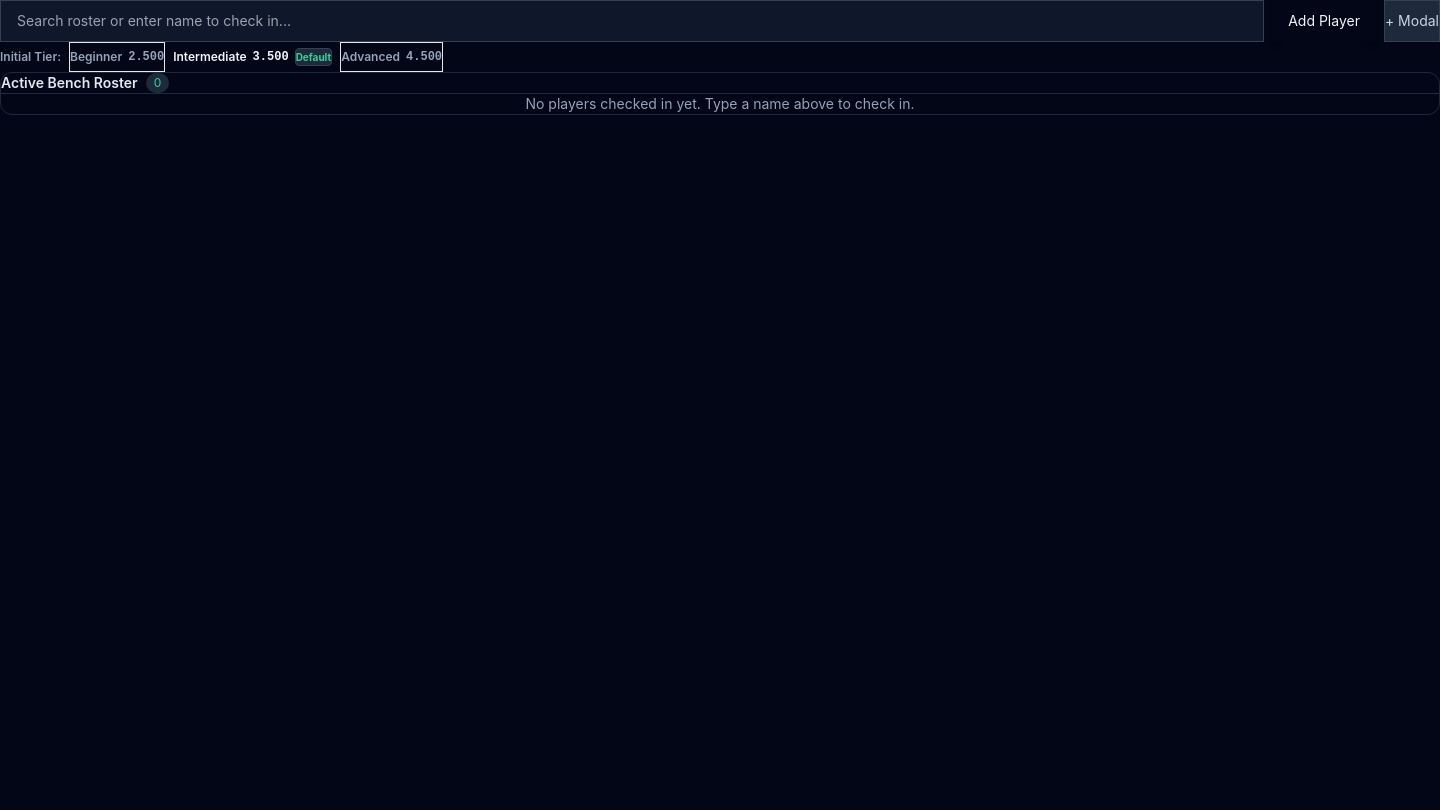
Test: RosterCheckInList › checks in a player with tier anchor via the check-in modal
Click the button with aria-label "Open detailed check-in modal" at (1412, 21), box [1384, 0, 1439, 42]
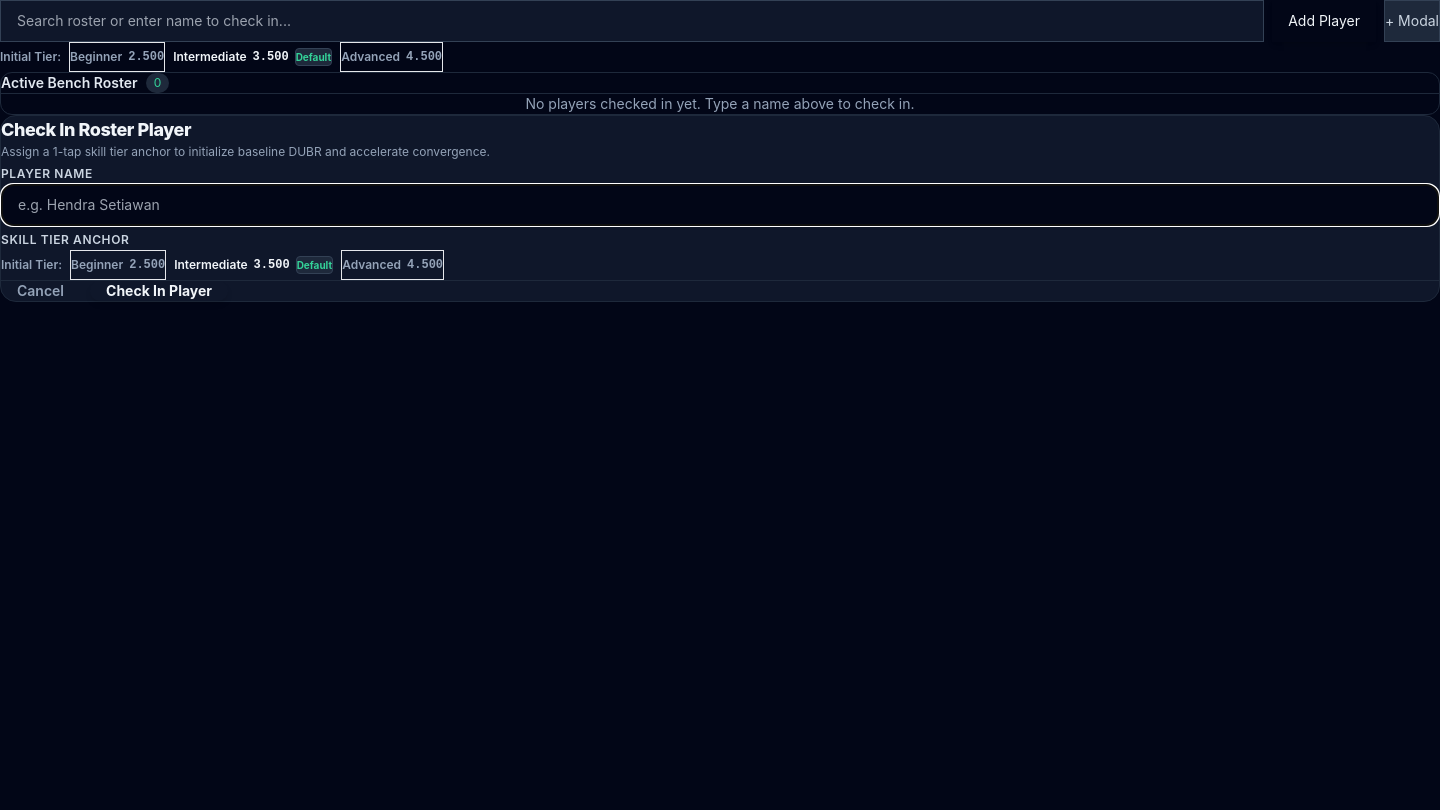
Now the heading "Check In Roster Player" is shown, box [1, 119, 191, 140]
Type "Modal Mike" into the field labelled "Player Name" at (720, 205), box [1, 184, 1439, 226]
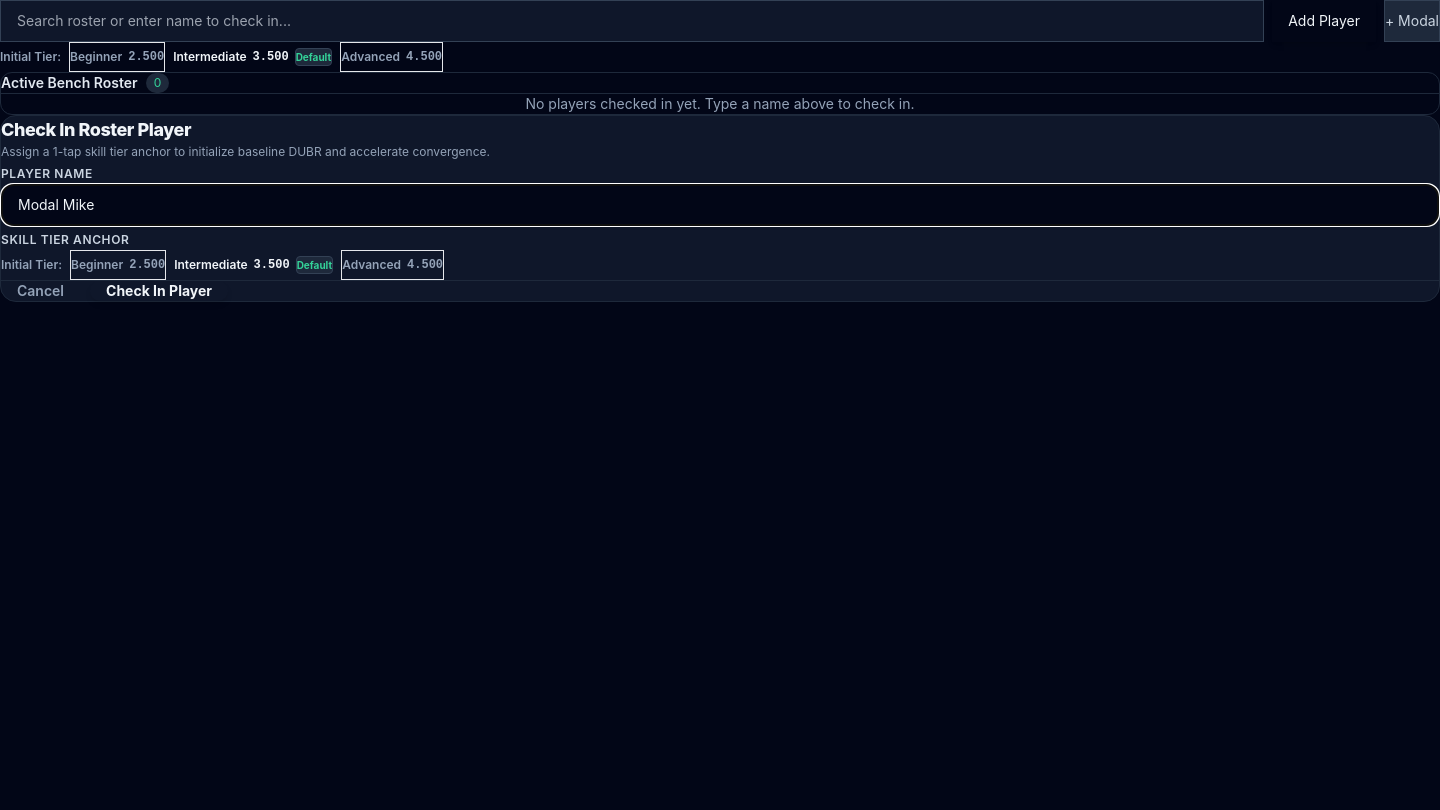
Click the radio button labelled "Advanced 4.500" below "Player Name" at (393, 265), box [341, 250, 444, 280]
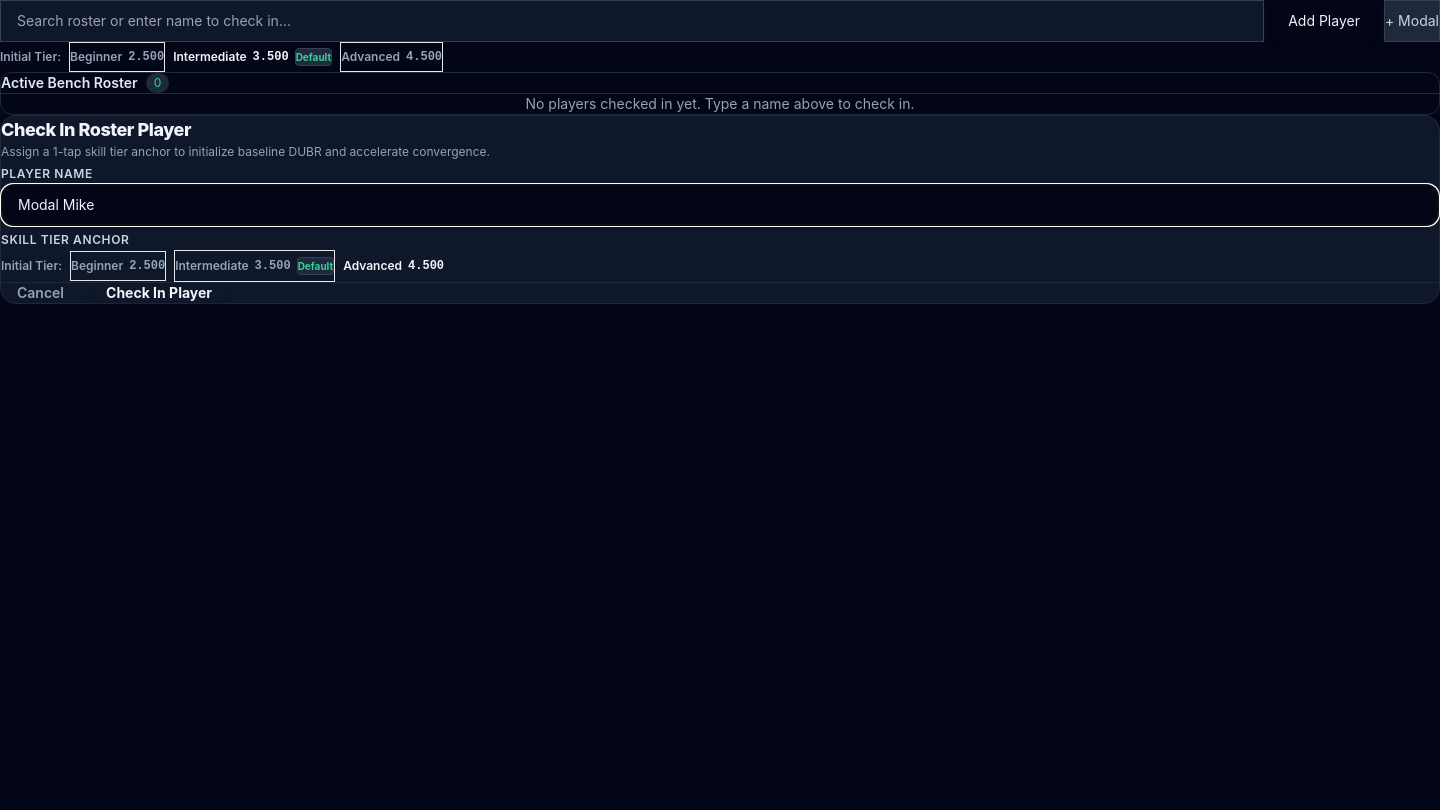
Click the button "Check In Player" at (159, 293), box [90, 283, 228, 303]
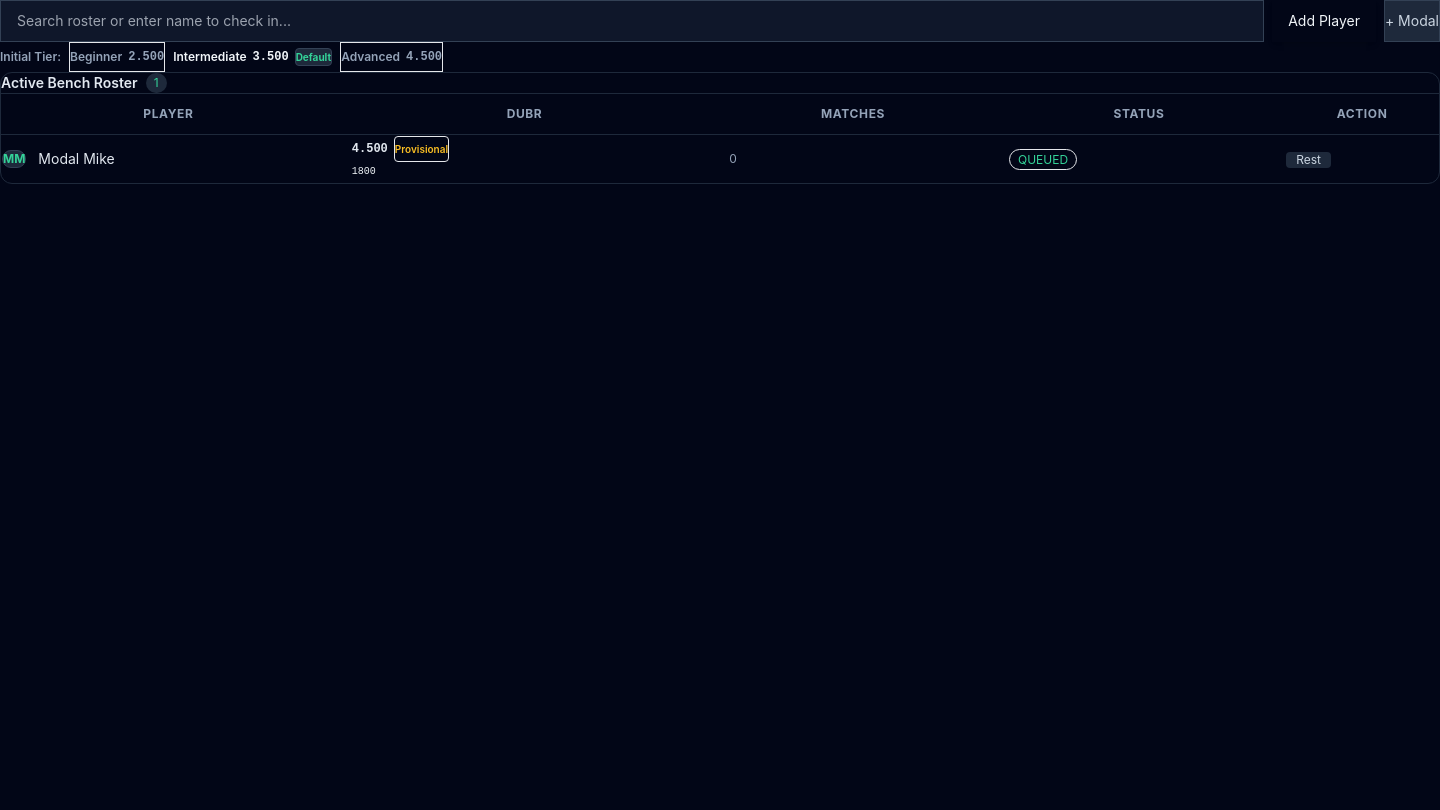
Now the text "4.500" next to "Provisional" is shown, box [352, 142, 388, 156]
Now the text "Modal Mike" is shown, box [38, 149, 115, 169]
Now the text "Provisional" is shown, box [394, 136, 449, 162]
